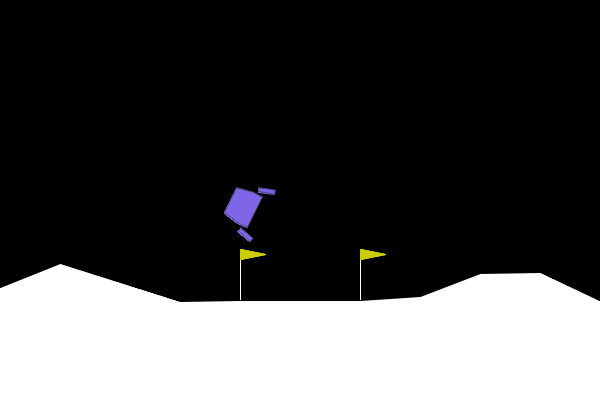lander: (215, 173, 277, 244)
